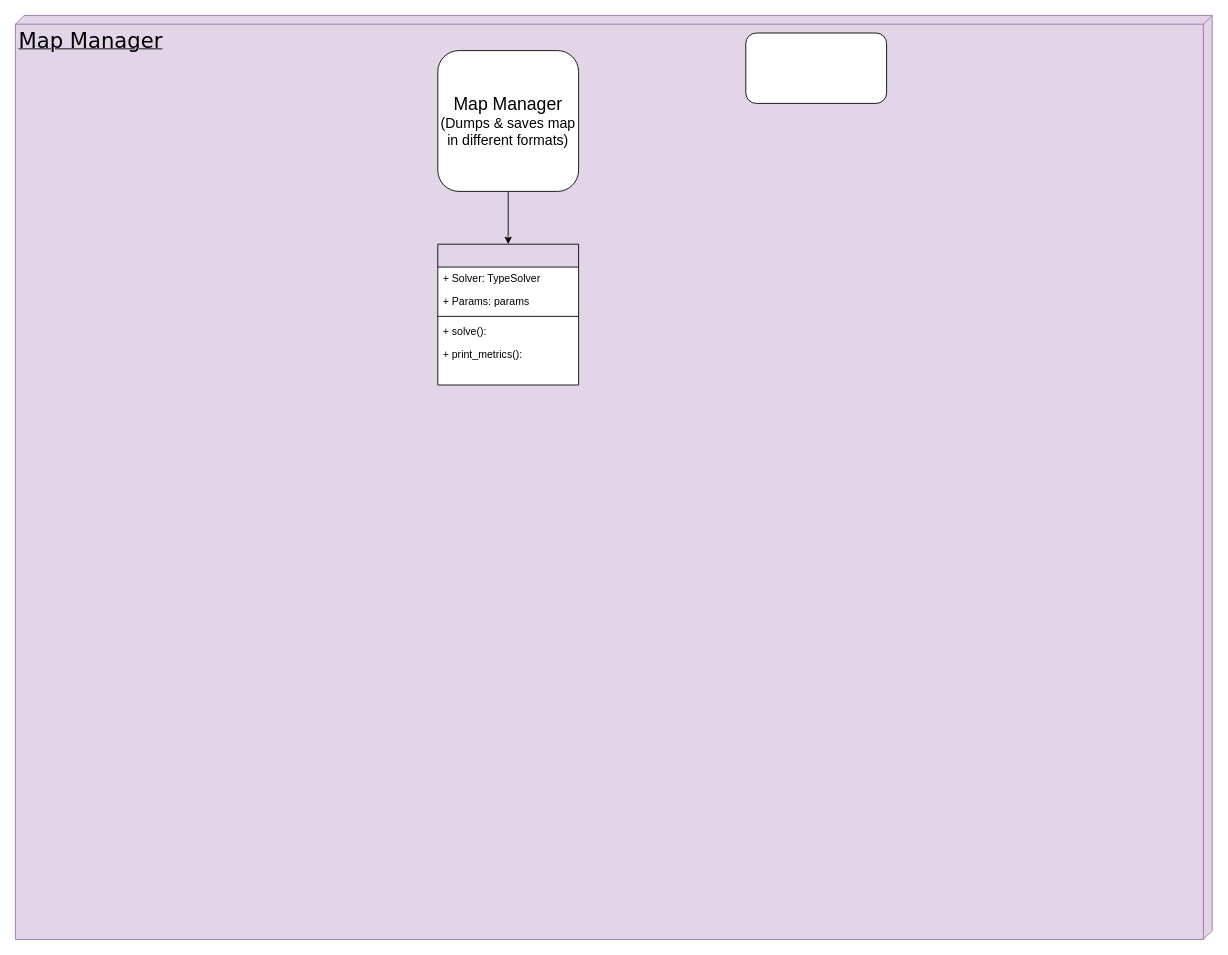
This 1228x955 diagram has some shape labels left out. The box of each missing label's shape, as (x1, y1, x2, y2) in pixels:
Communication Interface: (745, 32, 887, 103)
MapManager: (437, 243, 579, 385)
